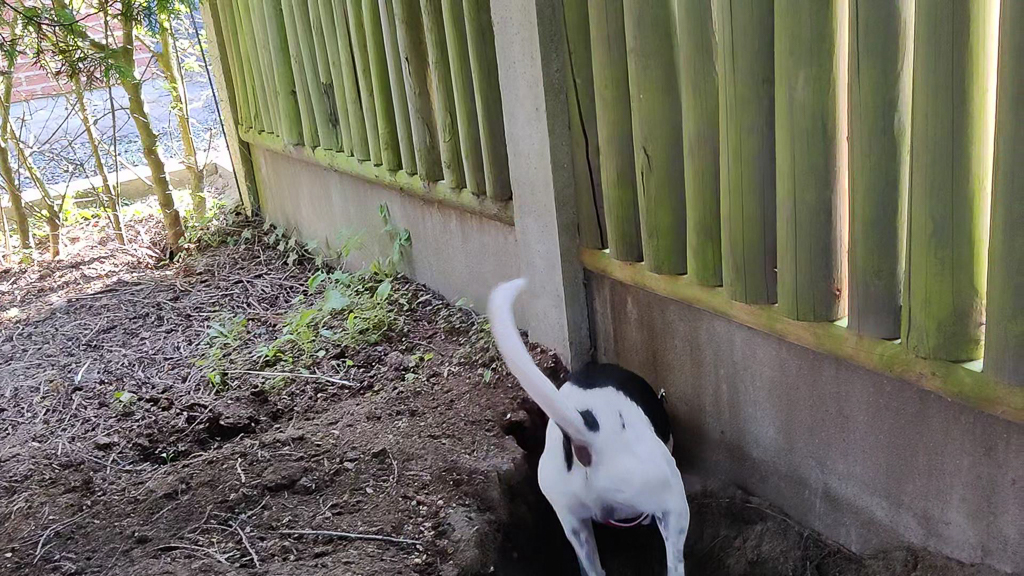Dog: (477, 267, 732, 576)
